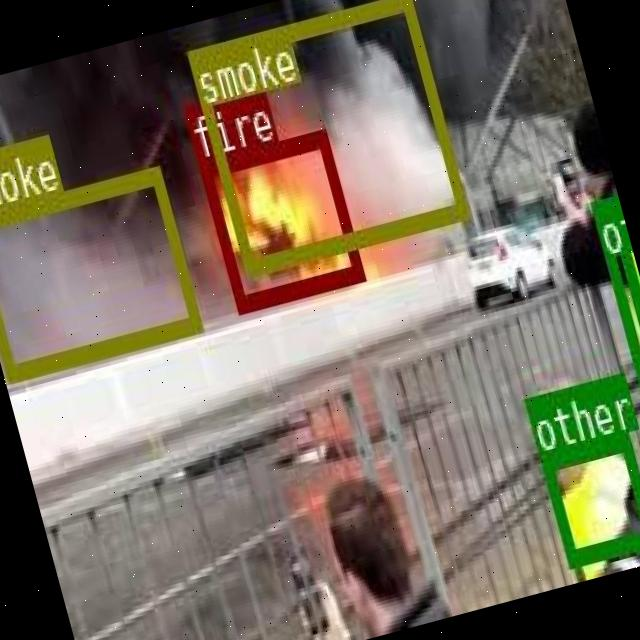fire: (196, 128, 363, 312)
smoke: (185, 0, 466, 274), (0, 164, 200, 380)
